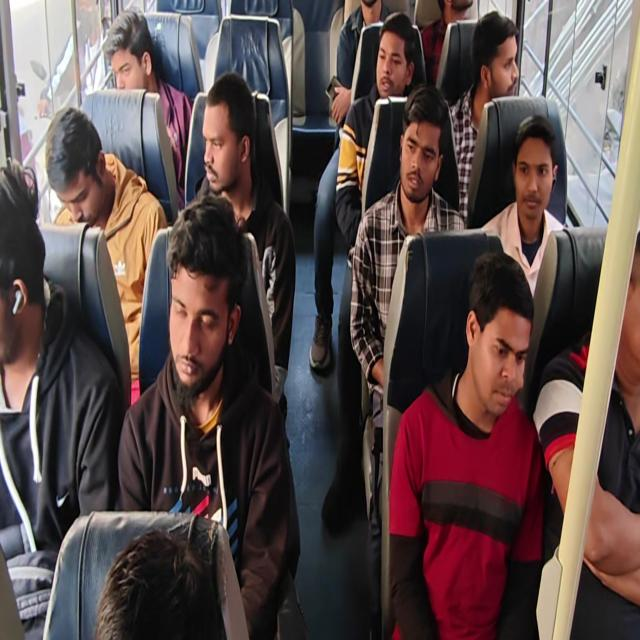person: (1, 1, 638, 638), (116, 192, 301, 638), (349, 83, 465, 636), (388, 250, 546, 638), (0, 157, 123, 638), (533, 228, 639, 638), (192, 72, 296, 439), (45, 106, 168, 406), (309, 1, 394, 370), (334, 11, 417, 267), (101, 8, 193, 208), (480, 114, 566, 298), (446, 11, 520, 222), (94, 528, 228, 638), (329, 0, 392, 129), (420, 0, 473, 86)
